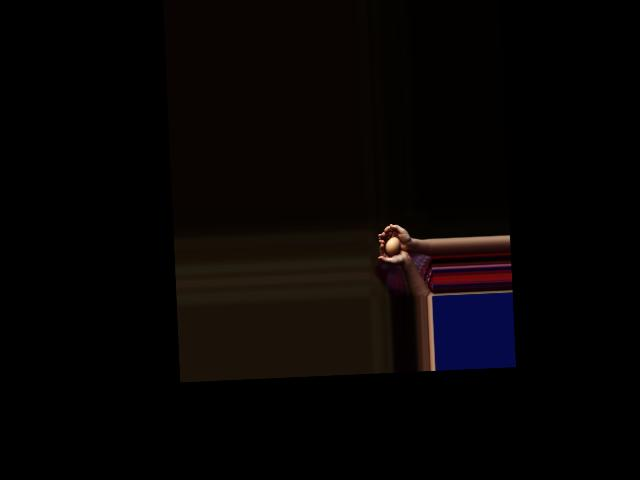egg: (384, 237, 400, 256)
